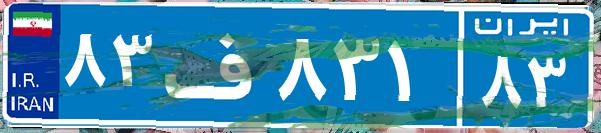1: (385, 28, 445, 110)
3: (330, 28, 385, 110), (110, 28, 158, 105), (525, 38, 570, 115)
8: (273, 28, 330, 110), (57, 26, 110, 107), (475, 38, 525, 113)
ف: (158, 15, 273, 115)
